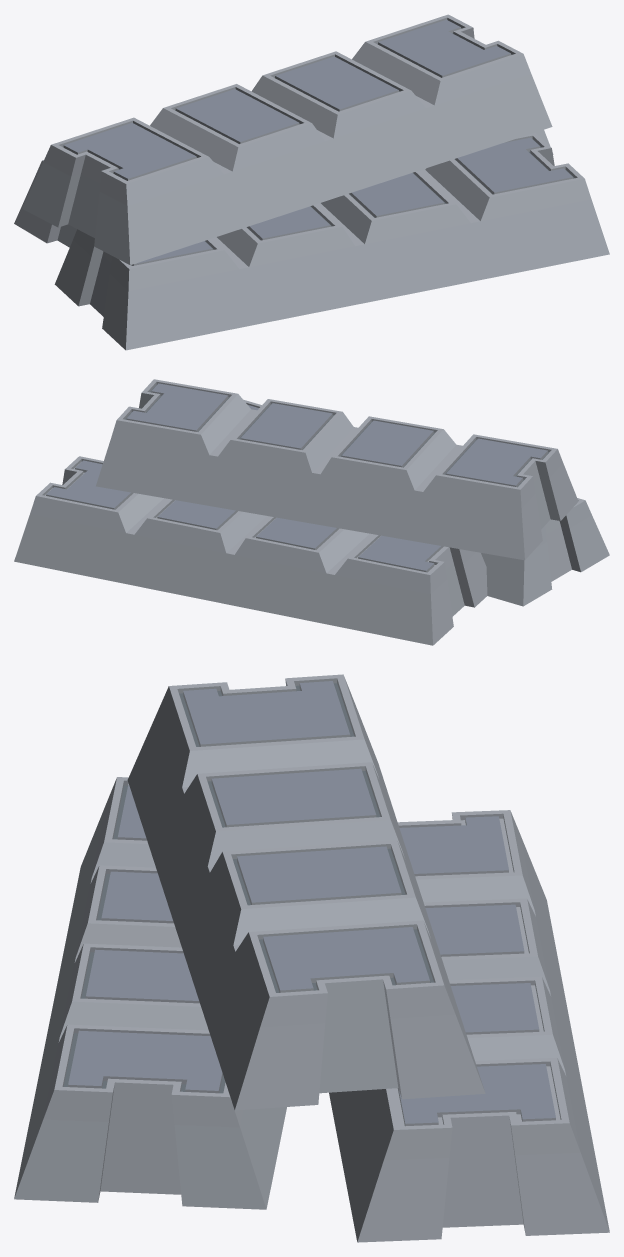
Rendered from SM_Tin_ingots.glb.
The picture shows the model from 3 angles, top to bottom: view 1: azimuth 30°, elevation 25°; view 2: azimuth 150°, elevation 25°; view 3: azimuth 270°, elevation 25°; orthographic projection. The views are drawn at different scales.
Parts seen in each view (by area): view 1: SM_Tin_ingots; view 2: SM_Tin_ingots; view 3: SM_Tin_ingots.
Boxes of the visible parts, x1=… form: SM_Tin_ingots: x1=14, y1=14, x2=609, y2=350; SM_Tin_ingots: x1=14, y1=379, x2=609, y2=645; SM_Tin_ingots: x1=14, y1=674, x2=609, y2=1242.
Bounding box in the file's own units: 0.6 × 0.15 × 0.4.
1 material, 1 textured.
